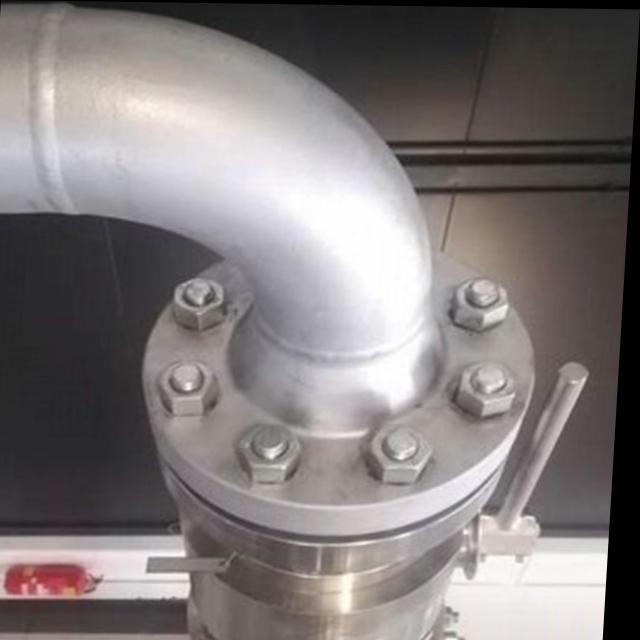Regular bolt: (371, 424, 442, 483), (241, 423, 308, 481), (454, 276, 516, 333), (163, 361, 229, 414), (459, 363, 525, 414), (176, 278, 234, 330)
